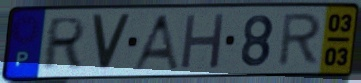8: (240, 13, 275, 68)
A: (129, 12, 182, 72)
H: (178, 11, 228, 71)
R: (274, 11, 325, 69), (39, 15, 89, 73)
V: (89, 13, 134, 74)
